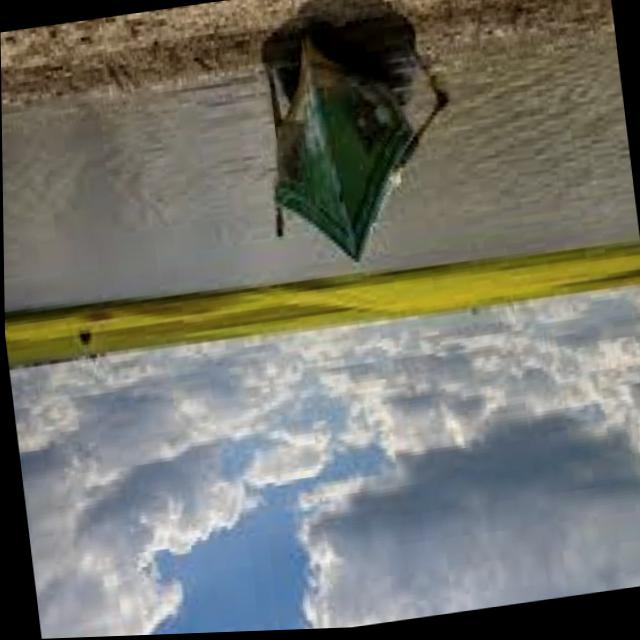ship2: (260, 22, 422, 264)
